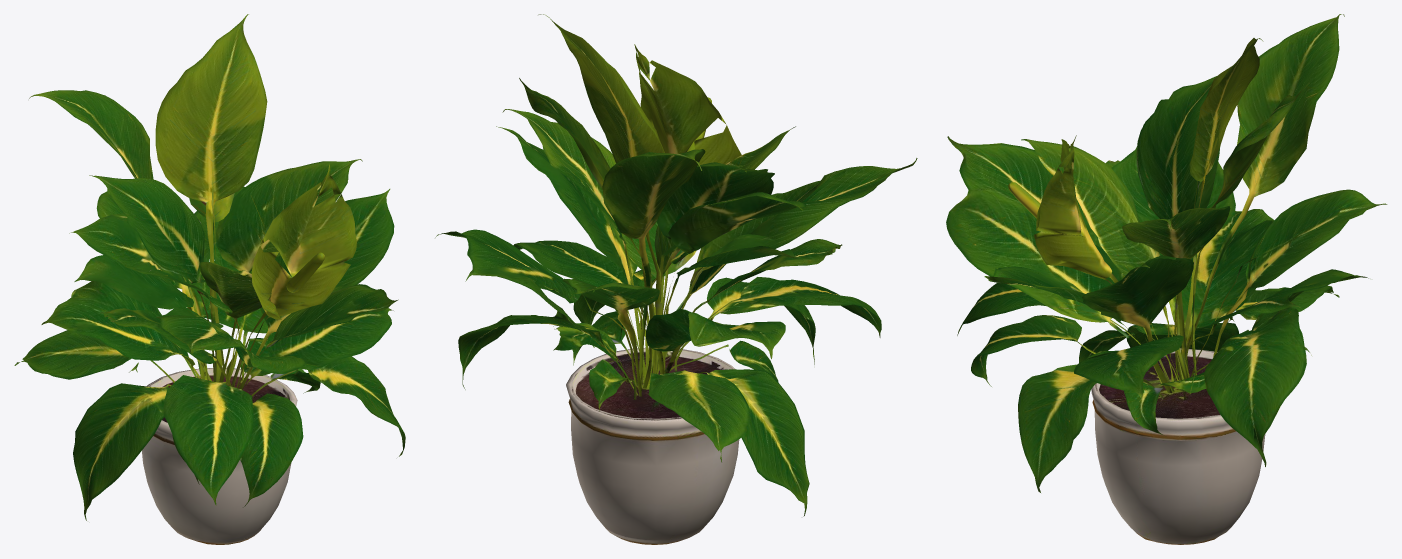
Rendered from plant-v3.glb.
3 renders of one model, left to right at view 1: azimuth 30°, elevation 25°; view 2: azimuth 150°, elevation 25°; view 3: azimuth 270°, elevation 25°, orthographic. The views are drawn at different scales.
Visible parts, largest first — view 1: DECOR_PLANT; view 2: DECOR_PLANT; view 3: DECOR_PLANT.
Boxes of the visible parts, <box> form: DECOR_PLANT: <box>14,14,405,544</box>; DECOR_PLANT: <box>435,14,917,544</box>; DECOR_PLANT: <box>946,14,1387,544</box>.
Size of the model in its own units: 1.34 by 2 by 1.53.
1 material, 1 textured.
